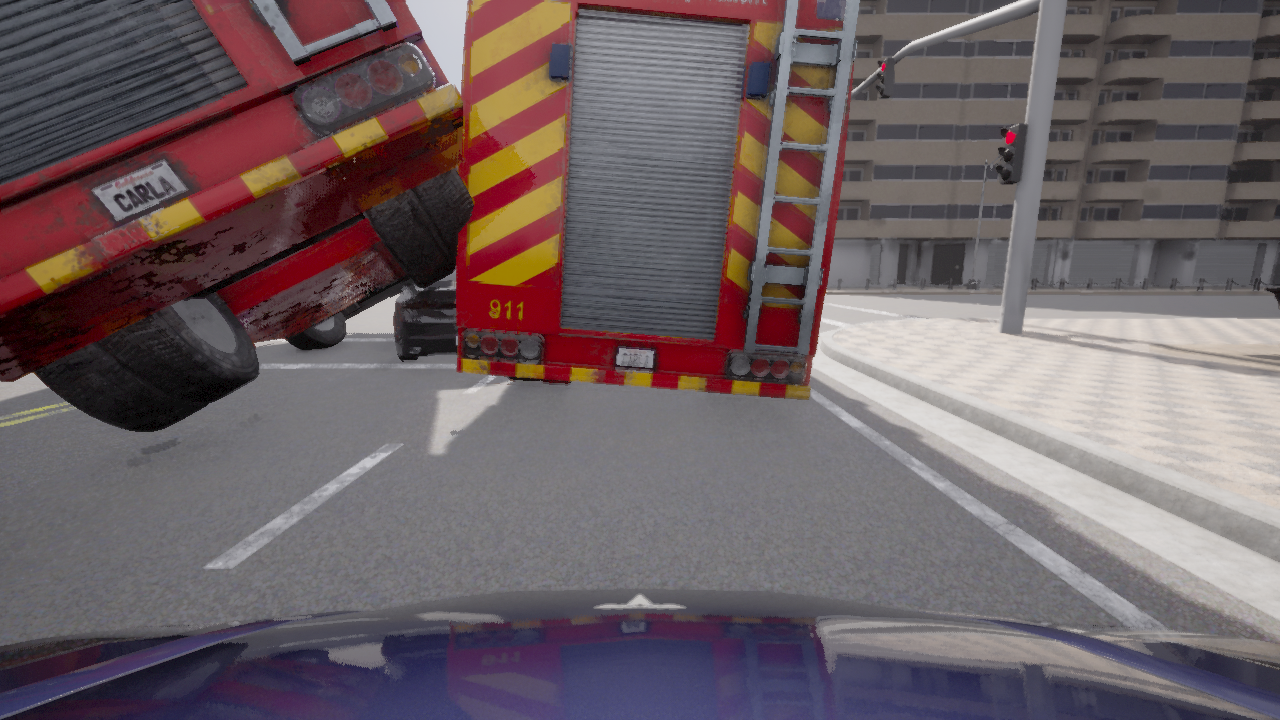cyclist: (0, 588, 1279, 719), (456, 0, 860, 398), (394, 266, 458, 360)
